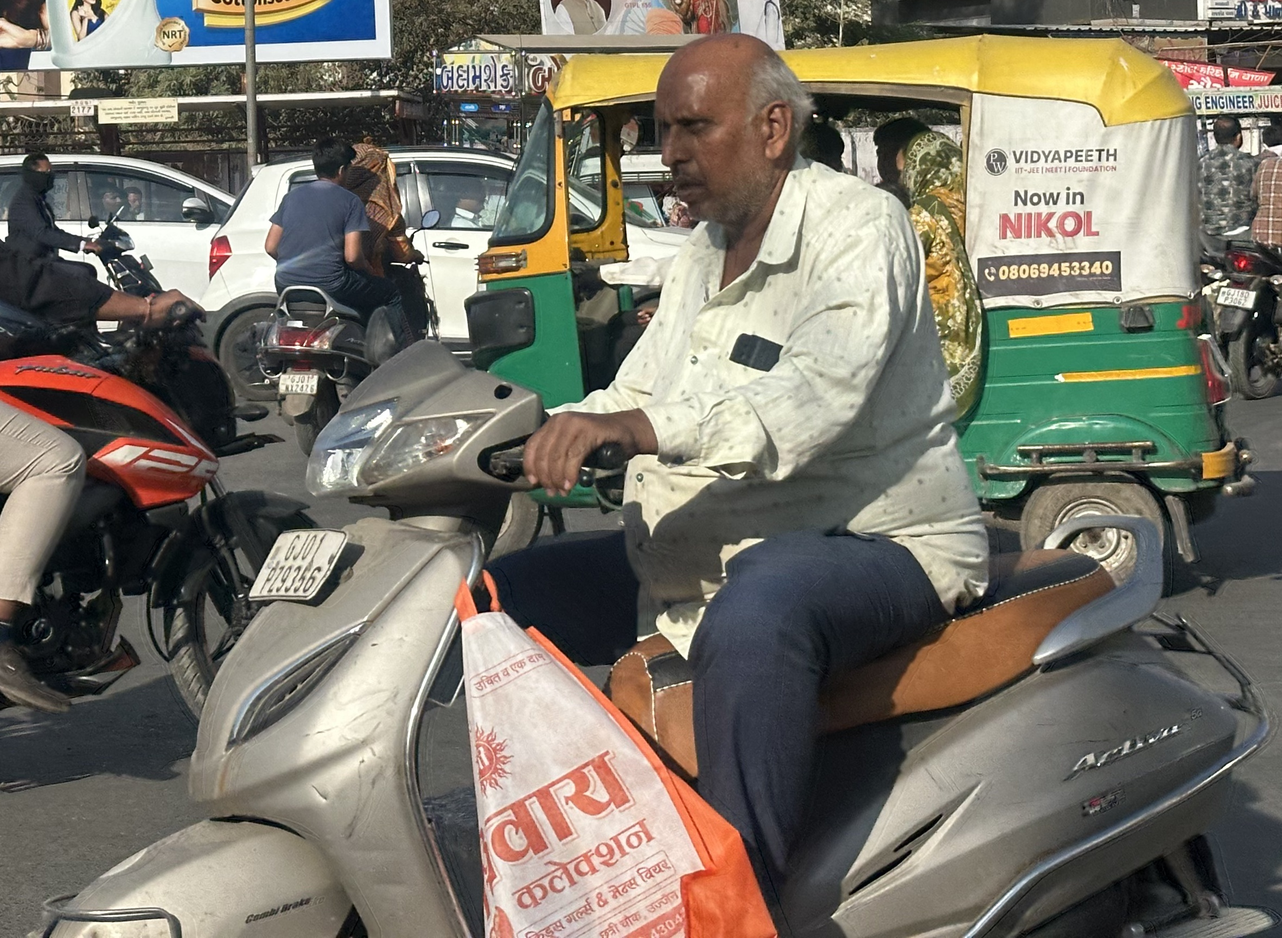BikeWithRider: (34, 20, 1279, 936), (247, 124, 460, 466)
NoHelmet: (640, 23, 834, 234), (303, 129, 362, 189)
